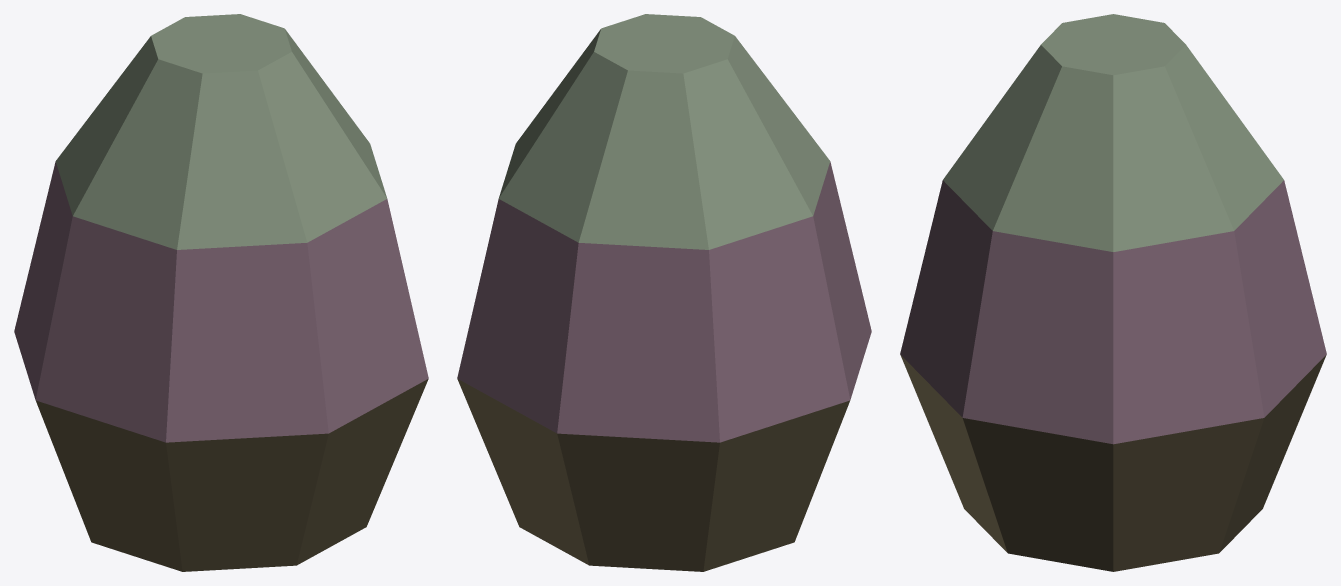
File: spore-pod.glb
3 views of the same model, side by side, from view 1: azimuth 30°, elevation 25°; view 2: azimuth 150°, elevation 25°; view 3: azimuth 270°, elevation 25° (orthographic).
Visible parts, largest first — view 1: spore-pod__body; view 2: spore-pod__body; view 3: spore-pod__body.
Part boxes in pixels (box(x1,y1,x2,y2)): spore-pod__body: box(14, 14, 428, 571); spore-pod__body: box(457, 14, 871, 571); spore-pod__body: box(900, 14, 1326, 571).
Size of the model in its own units: 1 by 1.2 by 1.
